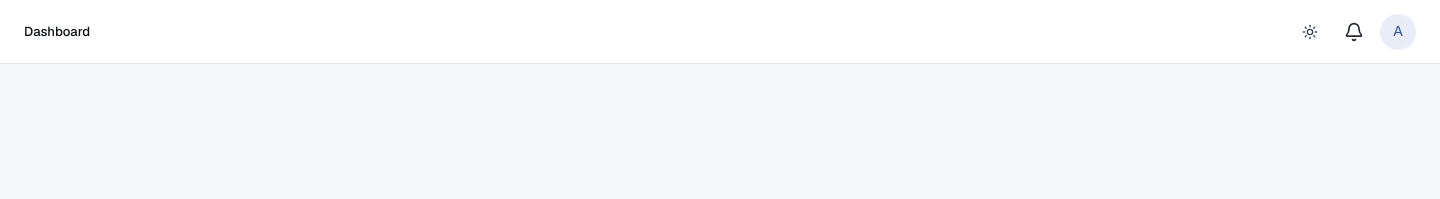
Test: a session with no organizations › still offers a way out
The width and height of the screenshot is (1440, 199).
Click the button named "ada lovelace".
click(1398, 32)  # box [1380,14,1416,50]
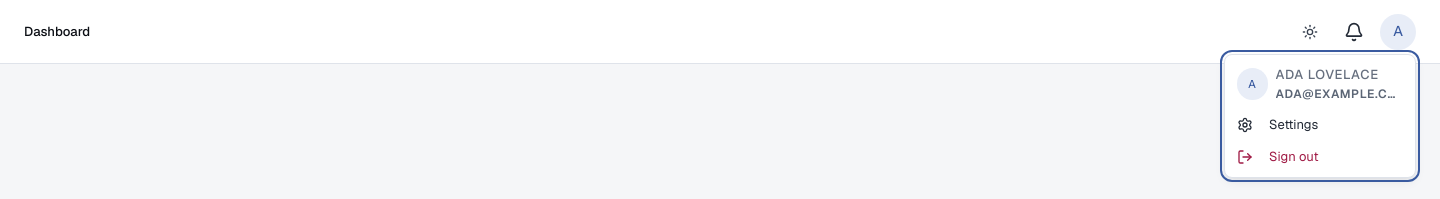
Now the menu item "Sign out" is shown, box [1237,148,1319,165]
